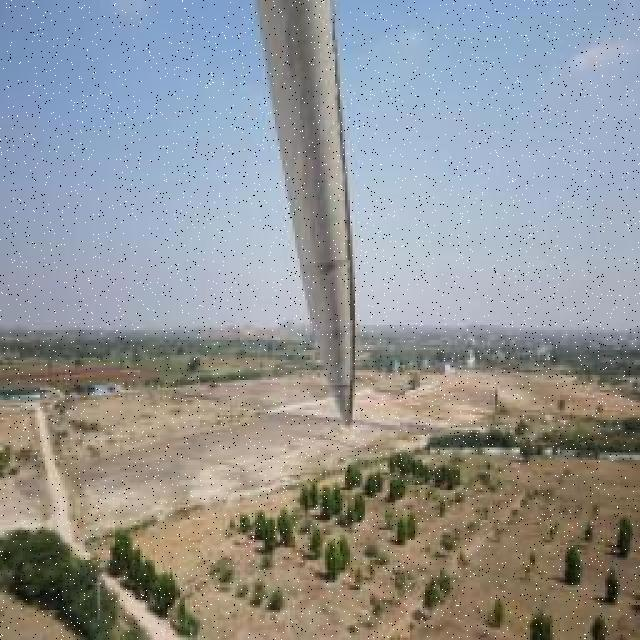Dirt: (278, 0, 340, 358)
Oil LEAKAGE: (331, 62, 363, 420)
Pin Hole: (315, 262, 344, 280), (331, 324, 347, 343)
